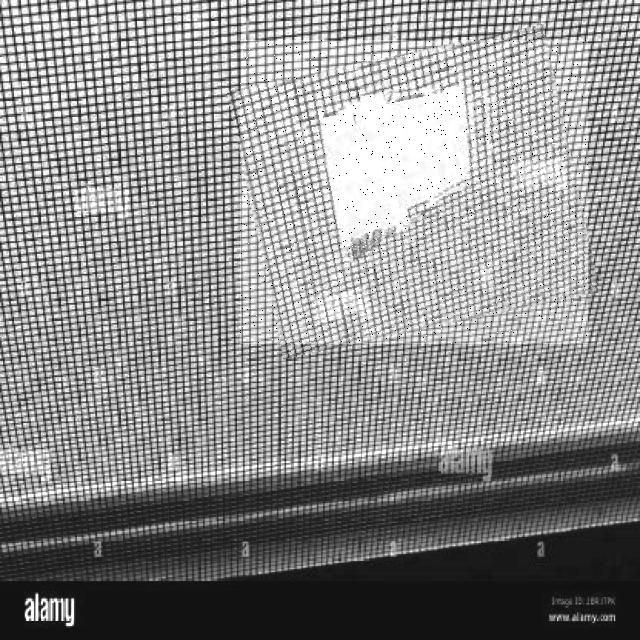anomaly-fence: (240, 40, 588, 344)
